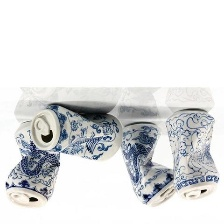can: (27, 101, 124, 164), (163, 107, 221, 202), (3, 120, 63, 208), (119, 121, 176, 213)
